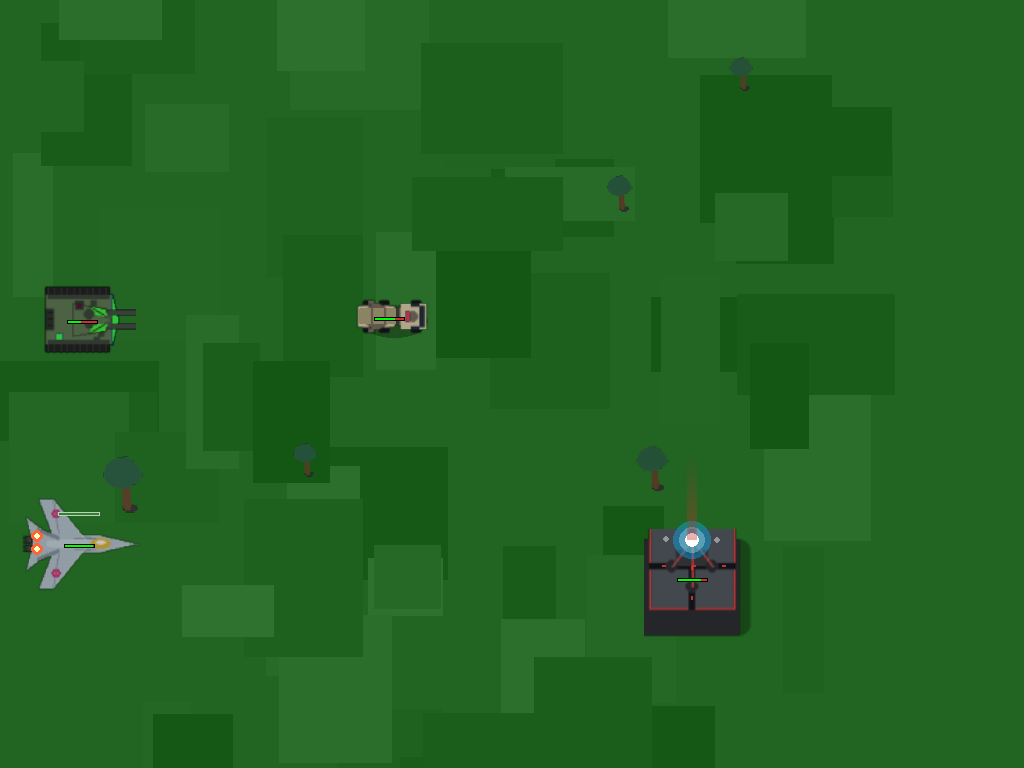ArmoredCar: (356, 284, 420, 348)
KirovAirship: (52, 515, 106, 569)
Lake: (638, 523, 745, 630)
MiningRig: (46, 283, 117, 354)
